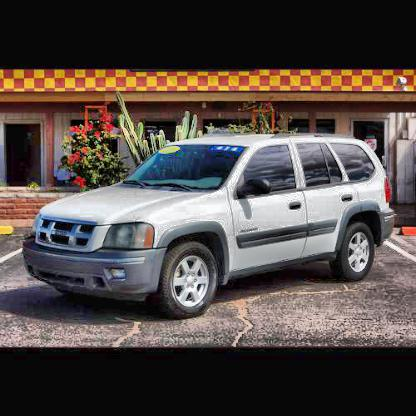Isuzu Ascender SUV 2008: (25, 133, 398, 316)
